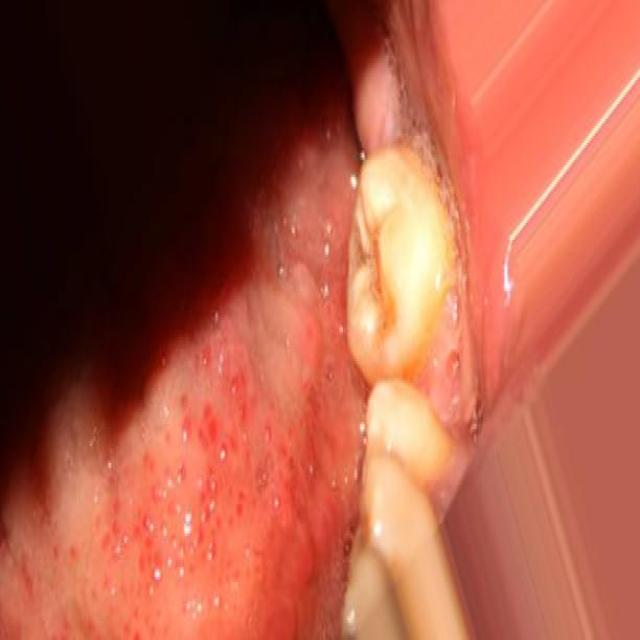caries: (344, 186, 409, 358)
